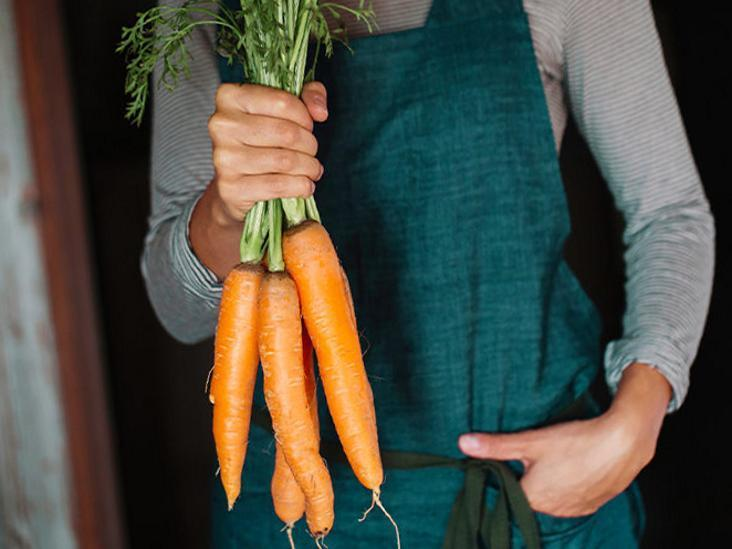carrot: (171, 228, 435, 509), (273, 219, 408, 538), (200, 258, 333, 545)
